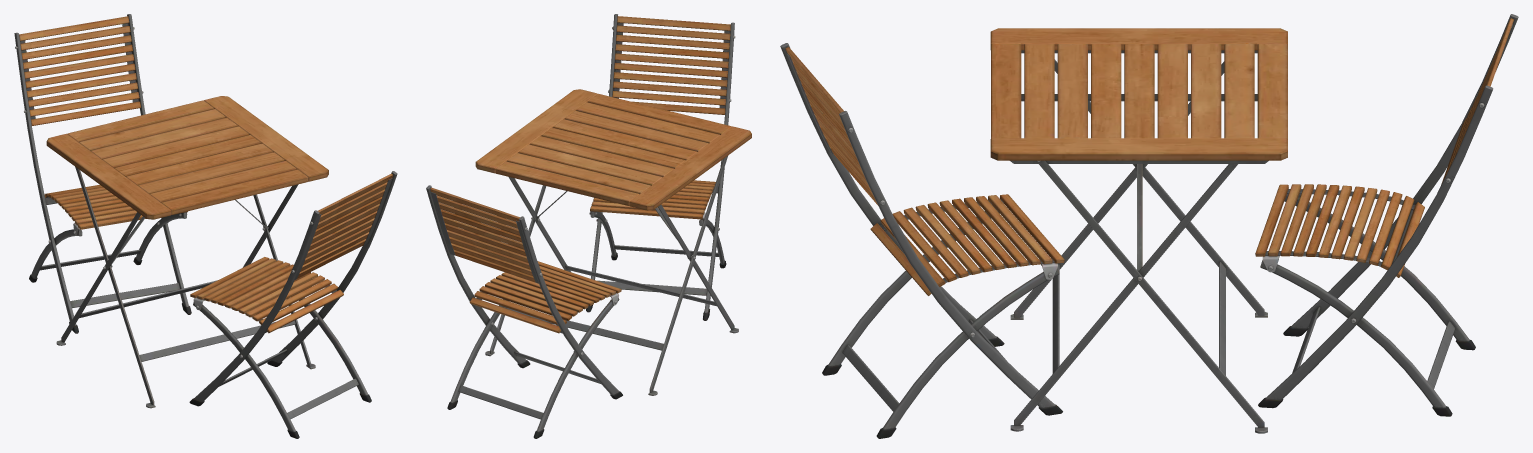
Rendered from outdoor_table_chair_set_01.glb.
The picture shows the model from 3 angles, left to right: view 1: azimuth 30°, elevation 25°; view 2: azimuth 150°, elevation 25°; view 3: azimuth 270°, elevation 25°; orthographic projection. The views are drawn at different scales.
Parts seen in each view (by area): view 1: outdoor_table_chair_set_01_chair_01, outdoor_table_chair_set_01_table; view 2: outdoor_table_chair_set_01_chair_01, outdoor_table_chair_set_01_table; view 3: outdoor_table_chair_set_01_table, outdoor_table_chair_set_01_chair_01.
Boxes of the visible parts, x1,y1,x2,y2 form: outdoor_table_chair_set_01_chair_01: [14, 14, 397, 438]; outdoor_table_chair_set_01_table: [46, 96, 328, 408]; outdoor_table_chair_set_01_chair_01: [426, 14, 735, 438]; outdoor_table_chair_set_01_table: [475, 89, 751, 395]; outdoor_table_chair_set_01_table: [990, 28, 1287, 433]; outdoor_table_chair_set_01_chair_01: [780, 14, 1518, 438].
Bounding box in the file's own units: 0.7417 × 0.8587 × 1.72.
2 materials, 2 textured.
